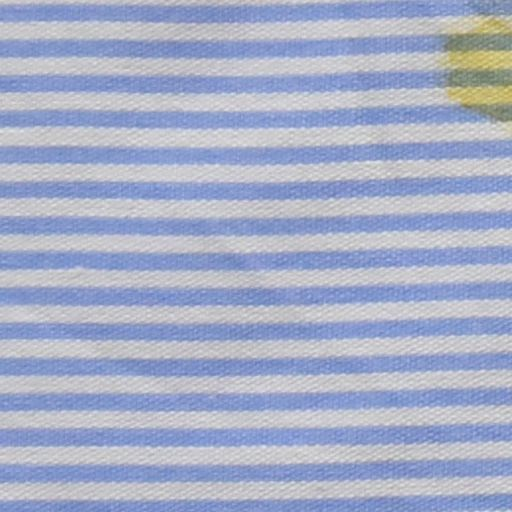defect: (433, 22, 512, 132)
